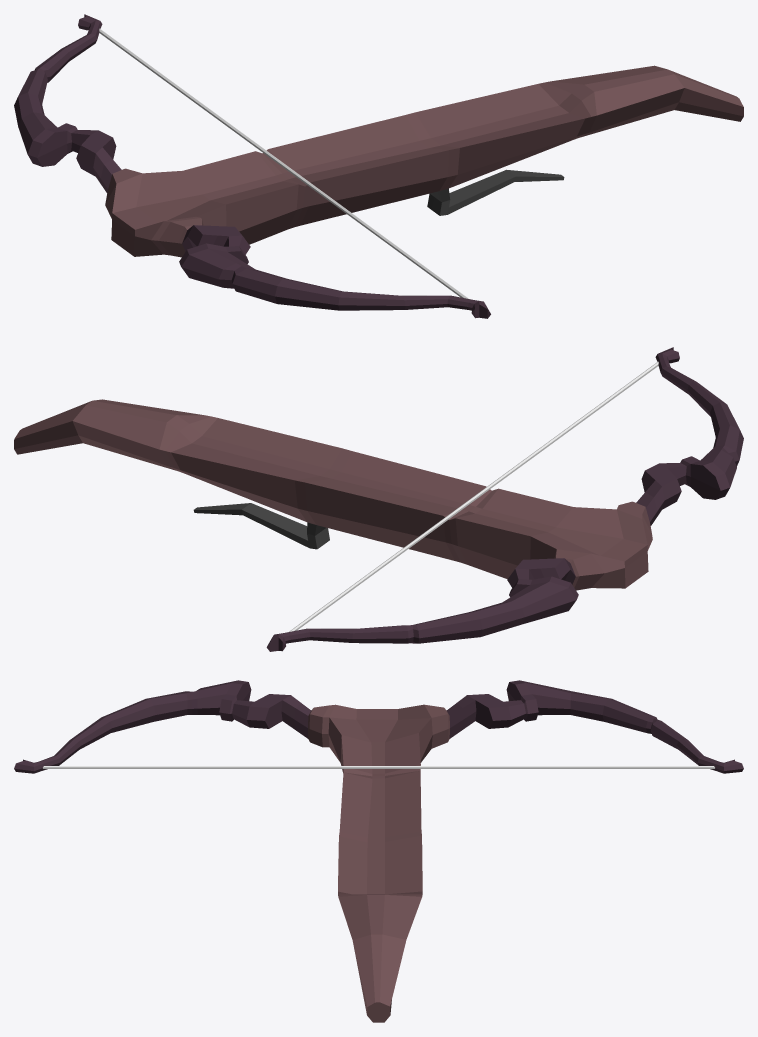
Rendered from CROSSBOW.fbx.
The picture shows the model from 3 angles, top to bottom: view 1: azimuth 30°, elevation 25°; view 2: azimuth 150°, elevation 25°; view 3: azimuth 270°, elevation 25°; orthographic projection. The views are drawn at different scales.
Visible parts, largest first — view 1: Bow_Wooden; view 2: Bow_Wooden; view 3: Bow_Wooden.
Boxes of the visible parts, bbox=[...] form: Bow_Wooden: bbox=[14, 14, 743, 318]; Bow_Wooden: bbox=[14, 347, 743, 651]; Bow_Wooden: bbox=[14, 680, 743, 1022].
Size of the model in its own units: 115 by 17.05 by 127.
